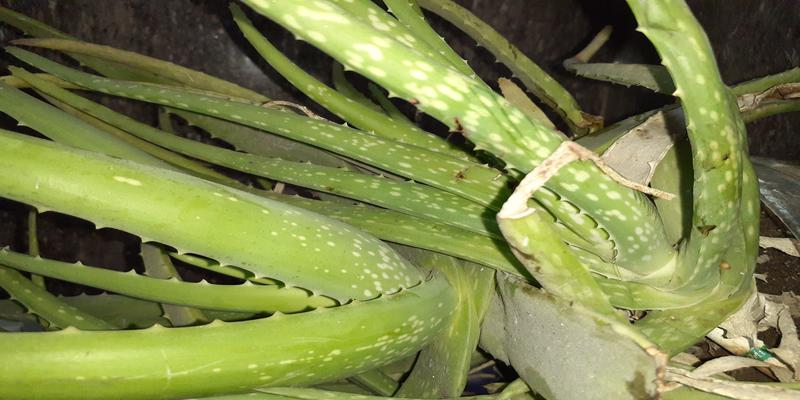Aloevera: (168, 46, 775, 393)
